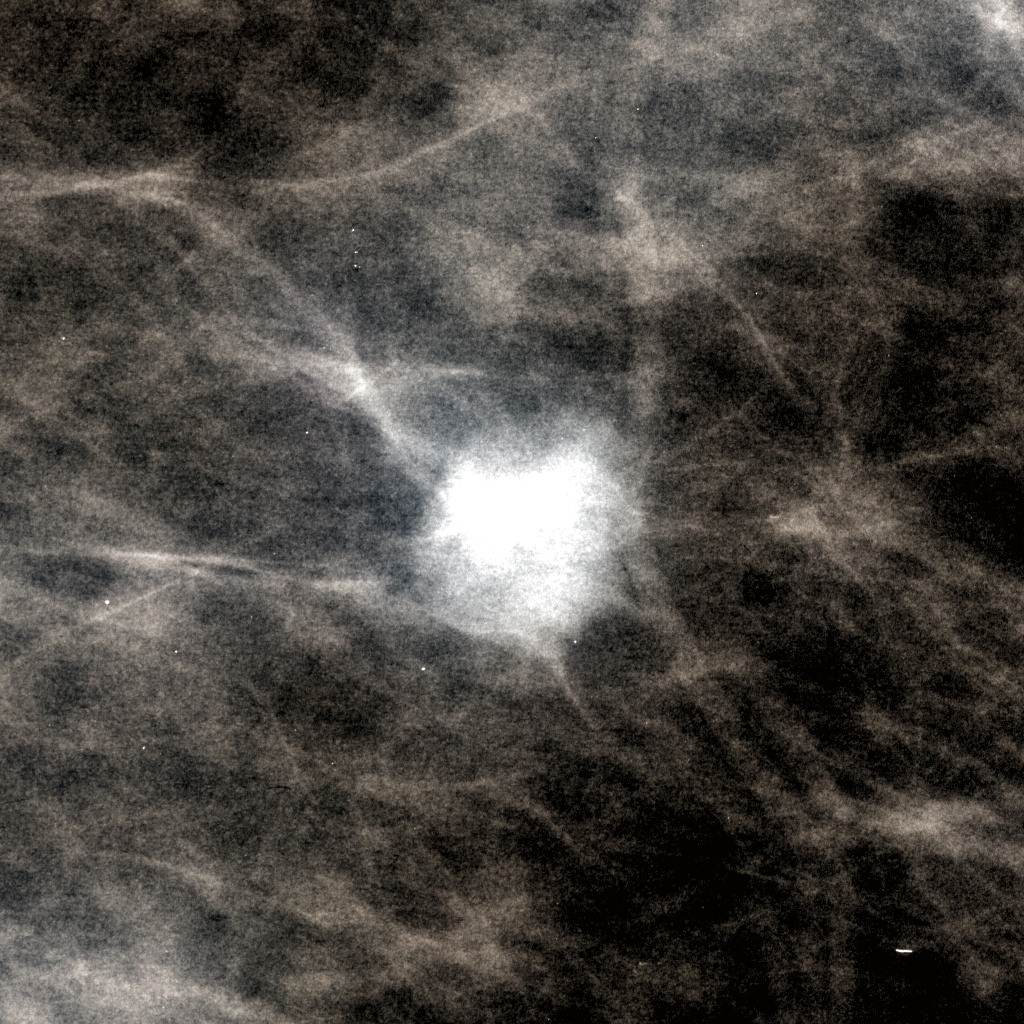tumor: (396, 407, 628, 617)
